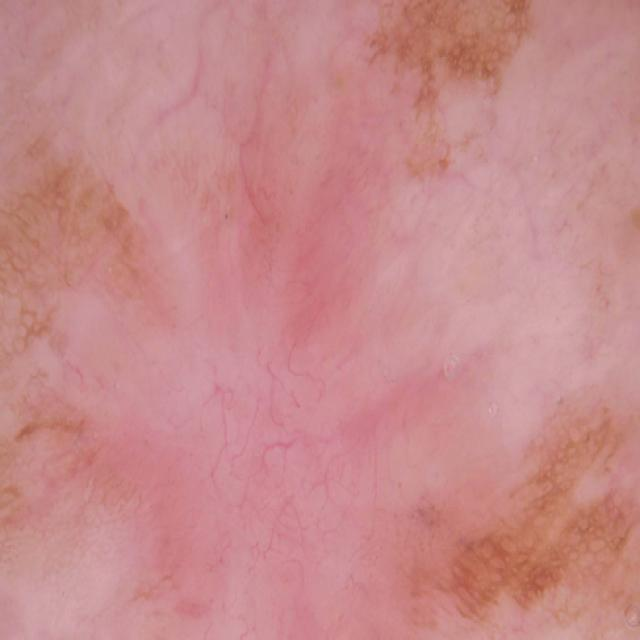Carcinoma: (0, 148, 230, 593), (395, 397, 640, 640), (336, 0, 622, 181)
